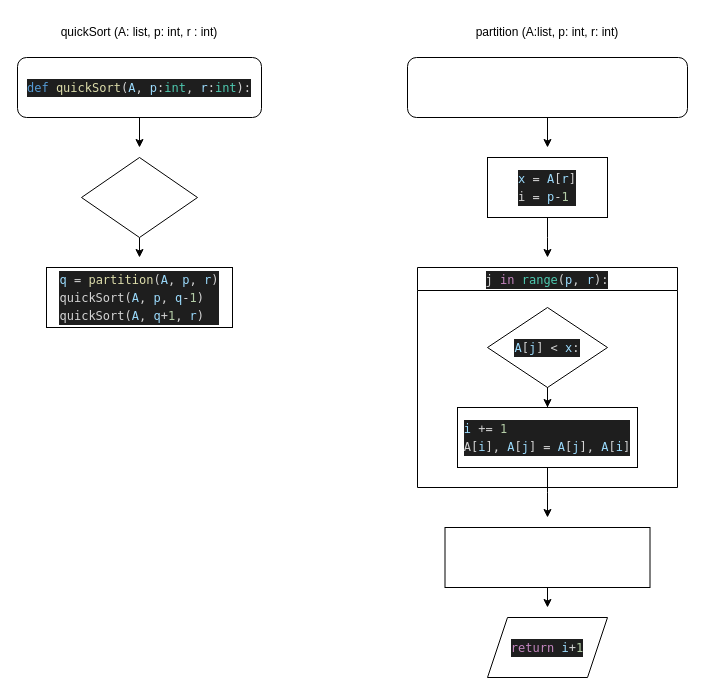
The diagram is 705 pixels wide and 695 high, and some of its shapes have lost their labels. Each missing label, with the centre of its shape:
"A [ i + 1 ], A [ r ] = A [ r ], A [ i + 1 ]" goes at [547,557].
"def partition ( A , p : int , r : int )-> int :" goes at [547,87].
"p < r :" goes at [139,197].
